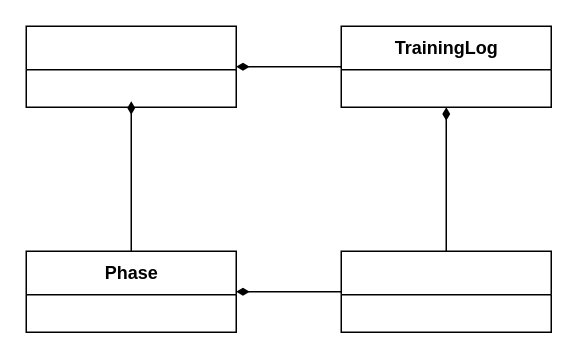
The diagram is 578 pixels wide and 359 high, and some of its shapes have lost their labels. Each missing label, with the centre of its shape:
Activity: point 445,291
TraningPlan: point 130,66
